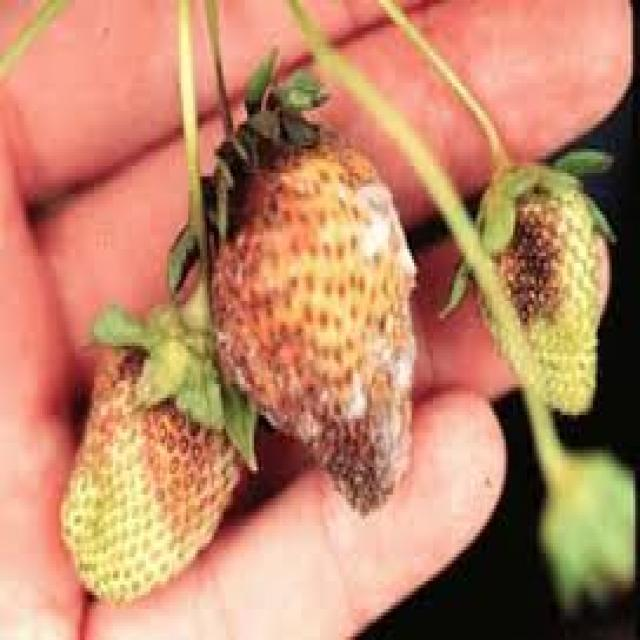Podredumbre de cuero: (198, 90, 434, 519), (56, 322, 240, 600), (467, 128, 622, 438)
